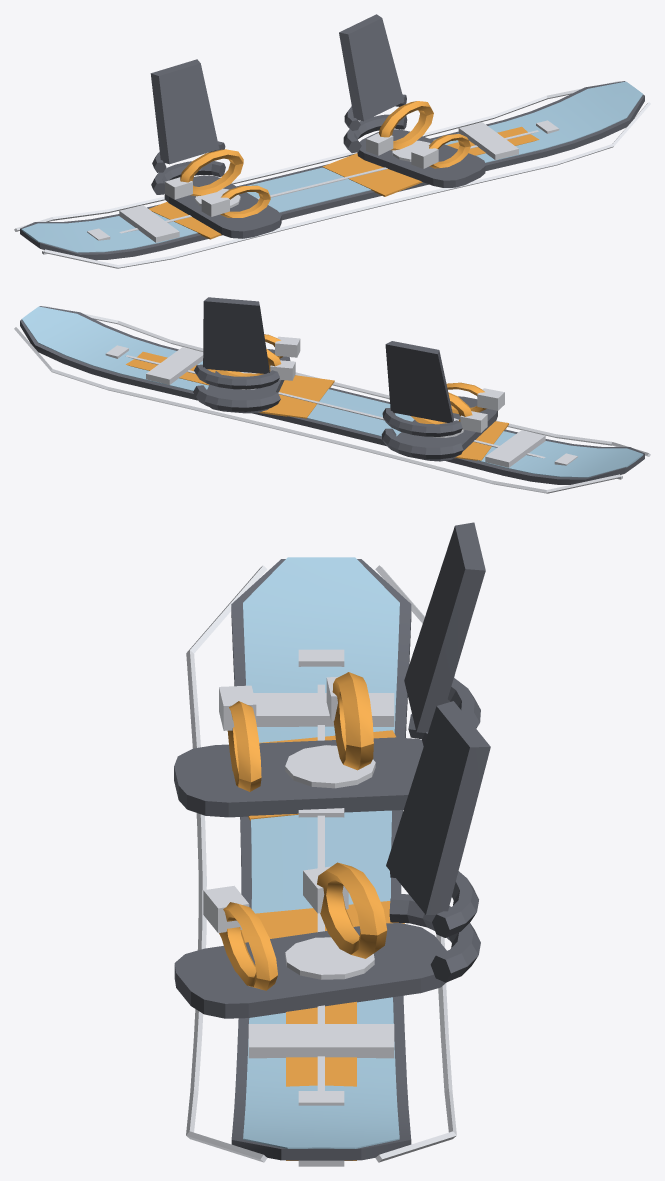
Rendered from backcountry-snowboarding-and-avalanche-safety-splitboa-a95f0592__18926.glb.
The picture shows the model from 3 angles, top to bottom: view 1: azimuth 30°, elevation 25°; view 2: azimuth 150°, elevation 25°; view 3: azimuth 270°, elevation 25°; orthographic projection. The views are drawn at different scales.
Parts seen in each view (by area): view 1: splitboard-ride-mode; view 2: splitboard-ride-mode; view 3: splitboard-ride-mode.
Part boxes in pixels (bbox=[...]): splitboard-ride-mode: bbox=[14, 14, 650, 268]; splitboard-ride-mode: bbox=[14, 297, 650, 493]; splitboard-ride-mode: bbox=[174, 522, 490, 1166].
Bounding box in the file's own units: 1.54 × 0.2979 × 0.3476.
